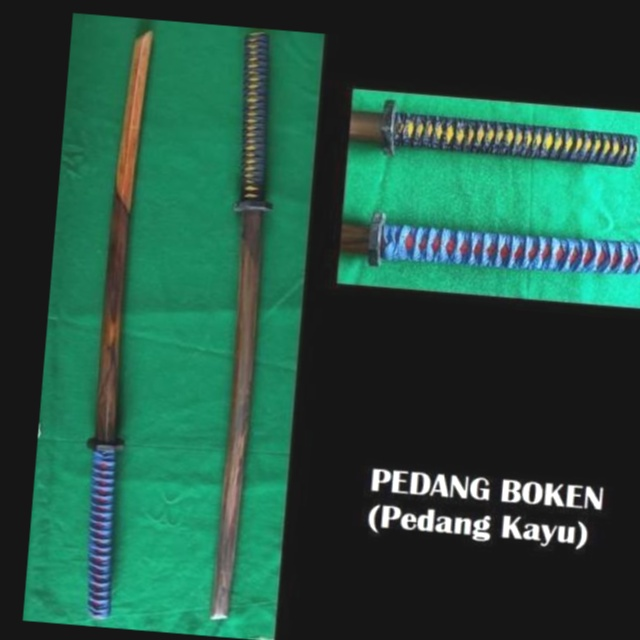Sharp-Object: (31, 13, 199, 624)
